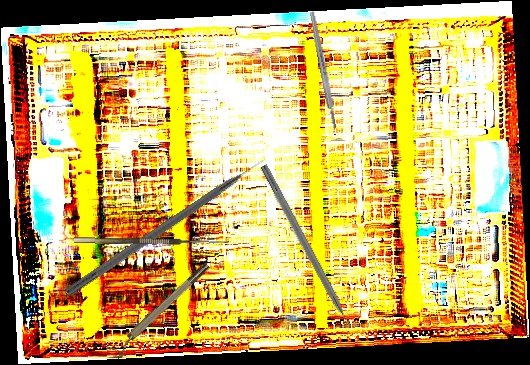Fixation Ring: (105, 260, 216, 362)
Hook Surgical: (64, 156, 269, 300), (257, 163, 358, 338), (74, 229, 230, 246)
Scalpel Handle: (308, 10, 339, 130)
